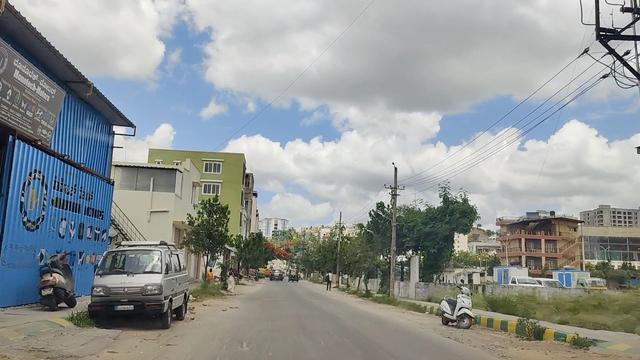LMV: (92, 248, 168, 320), (34, 248, 81, 308), (438, 283, 480, 332)
RoadDamages: (227, 332, 262, 360)
